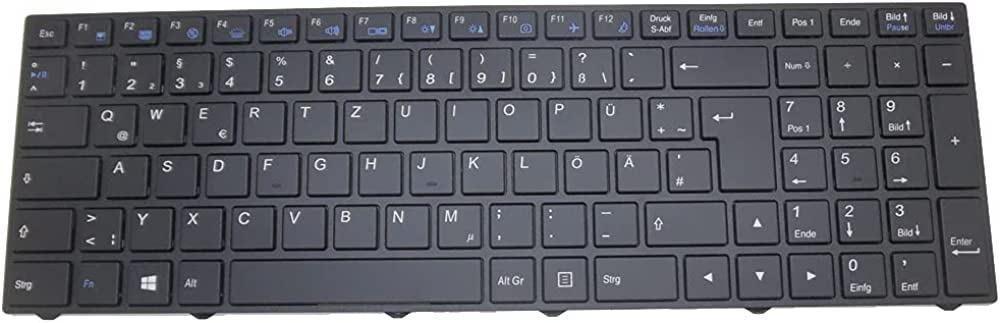0: (515, 43, 561, 88)
1: (66, 51, 112, 95)
2: (116, 50, 160, 93)
3: (163, 48, 209, 93)
4: (214, 47, 258, 91)
5: (263, 46, 308, 90)
6: (314, 45, 359, 90)
7: (365, 45, 409, 90)
8: (414, 44, 459, 89)
9: (465, 43, 510, 88)
a: (100, 151, 145, 196)
accent: (617, 43, 661, 87)
ae: (612, 145, 657, 190)
alt-left: (172, 256, 218, 304)
altgr-right: (486, 253, 533, 301)
b: (328, 199, 375, 246)
c: (226, 201, 271, 248)
caret: (19, 52, 62, 95)
comma: (485, 198, 530, 246)
d: (201, 149, 245, 195)
del: (668, 41, 766, 85)
e: (187, 97, 232, 143)
enter: (696, 92, 772, 189)
f: (252, 148, 296, 194)
g: (303, 148, 346, 193)
h: (354, 147, 398, 193)
hash: (663, 144, 708, 190)
i: (442, 94, 485, 139)
j: (405, 146, 450, 193)
k: (457, 145, 502, 192)
keyboard: (1, 1, 997, 313)
l: (509, 146, 554, 192)
less: (73, 203, 120, 250)
m: (432, 199, 478, 246)
minus: (588, 198, 635, 244)
n: (381, 199, 426, 246)
o: (491, 93, 536, 138)
oe: (559, 145, 604, 191)
p: (543, 93, 587, 138)
plus: (644, 92, 690, 137)
point: (537, 199, 583, 245)
q: (87, 99, 134, 145)
r: (238, 97, 283, 142)
s: (150, 150, 195, 195)
shift-left: (5, 205, 70, 250)
shift-lock: (11, 151, 96, 197)
shift-right: (641, 195, 723, 243)
space: (229, 256, 483, 306)
ss: (566, 43, 611, 87)
strg-left: (1, 256, 67, 305)
strg-right: (588, 251, 676, 300)
t: (289, 96, 333, 141)
tab: (14, 100, 83, 145)
u: (389, 95, 434, 140)
ue: (593, 93, 639, 138)
v: (278, 200, 323, 247)
w: (138, 98, 182, 143)
x: (175, 202, 220, 249)
y: (126, 203, 170, 249)
z: (339, 96, 384, 141)
